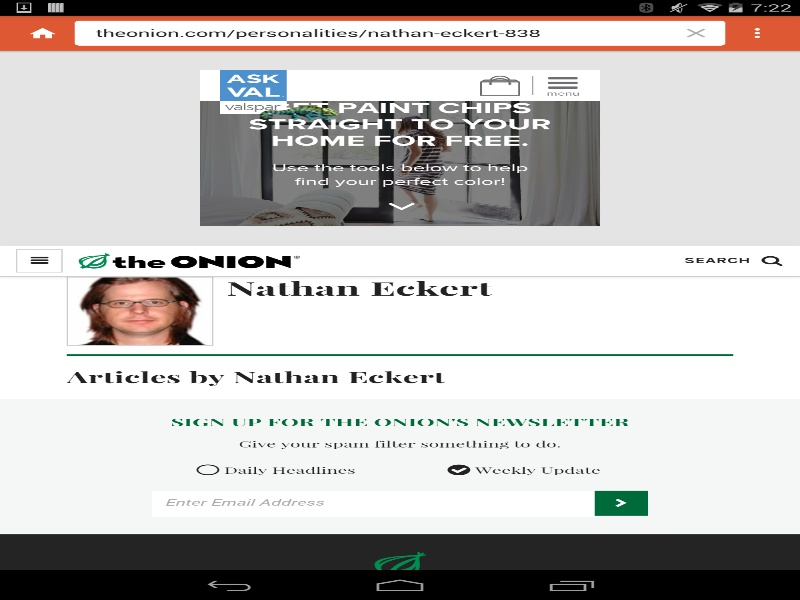Button: (10, 15, 74, 50), (725, 15, 789, 50)
Input: (74, 20, 725, 45)
